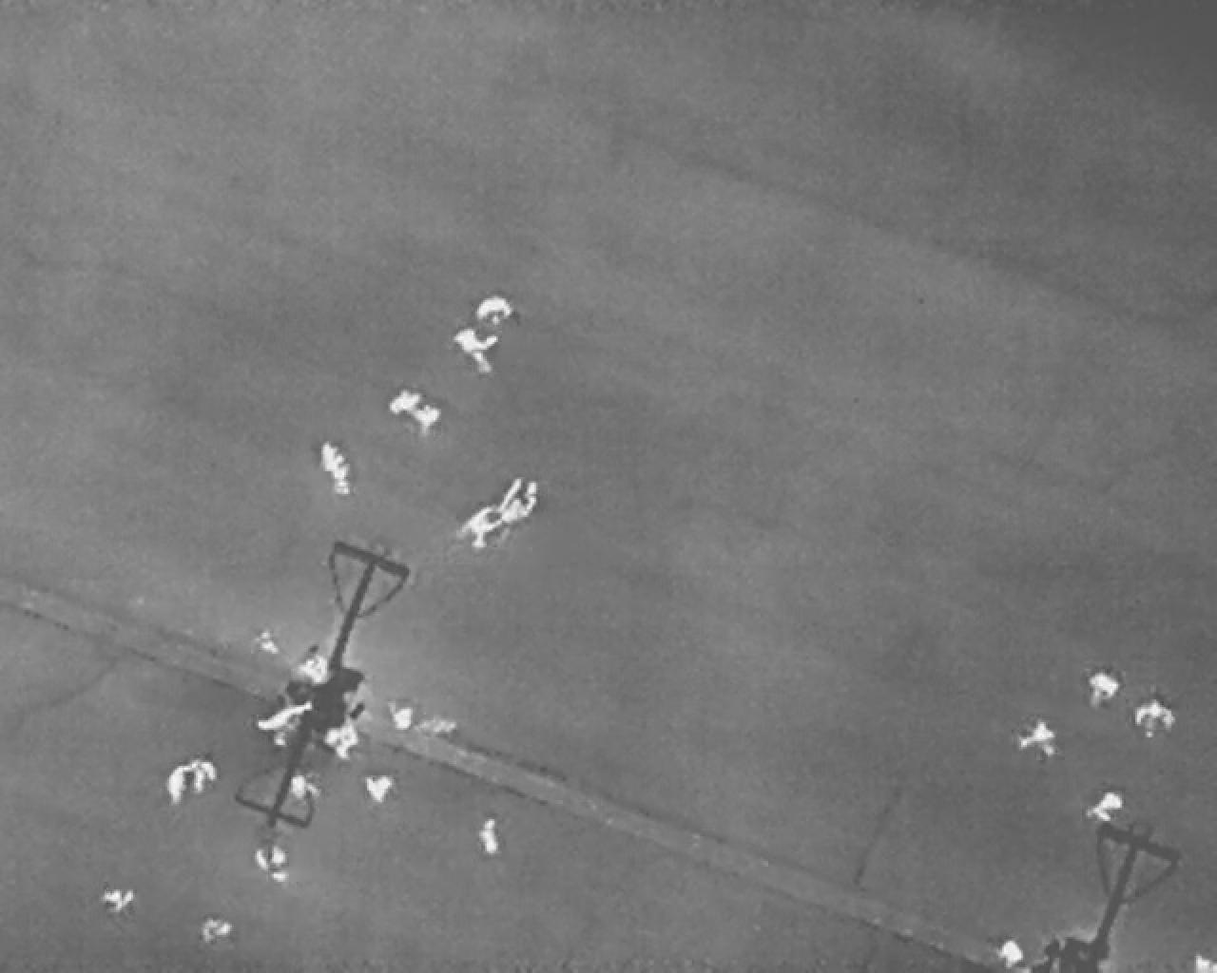person: (446, 313, 512, 387), (1079, 780, 1134, 839), (252, 698, 313, 748), (1079, 662, 1125, 721), (499, 480, 537, 541), (1134, 693, 1178, 742), (459, 505, 497, 554), (1014, 717, 1058, 759), (248, 847, 290, 885), (476, 292, 520, 326), (187, 754, 220, 799), (324, 721, 358, 761), (383, 698, 415, 735), (995, 934, 1026, 972), (298, 651, 332, 685), (288, 769, 322, 803), (197, 915, 235, 945), (362, 774, 395, 807), (166, 767, 191, 809), (102, 888, 138, 915), (476, 820, 503, 854), (414, 408, 446, 436), (387, 389, 421, 415), (320, 438, 341, 472), (332, 465, 355, 495), (256, 628, 282, 653), (1191, 953, 1216, 968)
